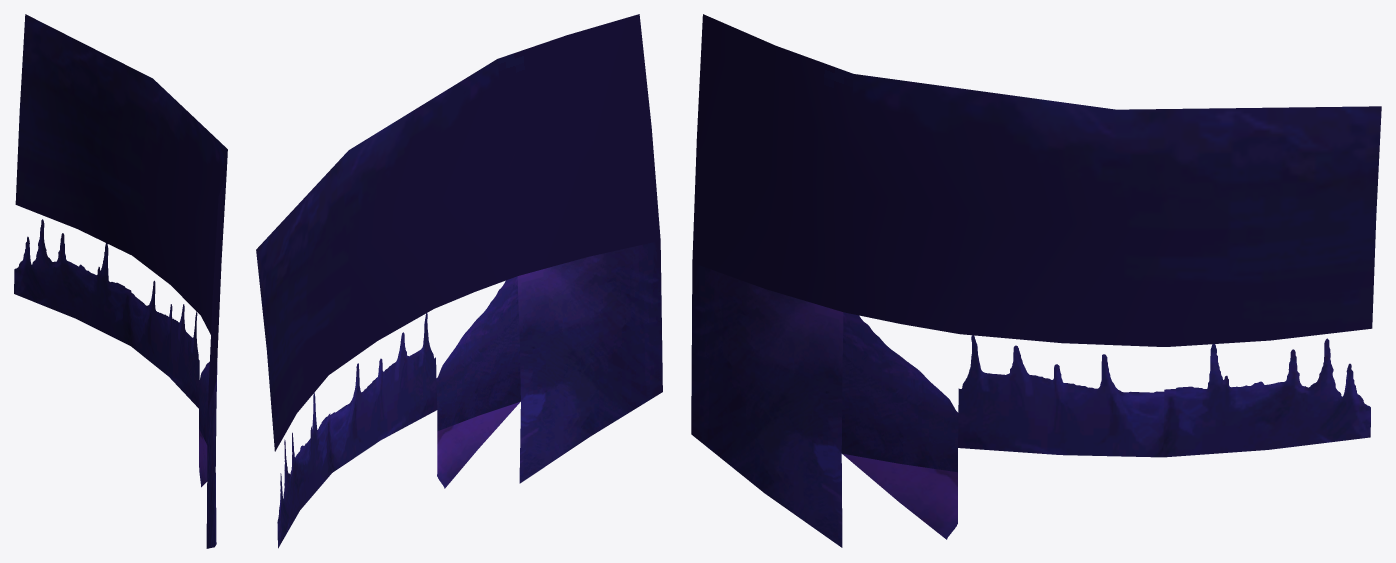
File: SWORDLIGHT20_PS-AREA05-RANGE02_01.obj
3 renders of one model, left to right at view 1: azimuth 30°, elevation 25°; view 2: azimuth 150°, elevation 25°; view 3: azimuth 270°, elevation 25°, orthographic. The views are drawn at different scales.
Parts seen in each view (by area): view 1: ea05-Range02_01; view 2: ea05-Range02_01; view 3: ea05-Range02_01.
Boxes of the visible parts, left/top/right/bottom form: ea05-Range02_01: left=14, top=14, right=227, bottom=548; ea05-Range02_01: left=256, top=14, right=662, bottom=548; ea05-Range02_01: left=691, top=14, right=1381, bottom=547.
Bounding box in the file's own units: 1014 × 3332 × 4158.
